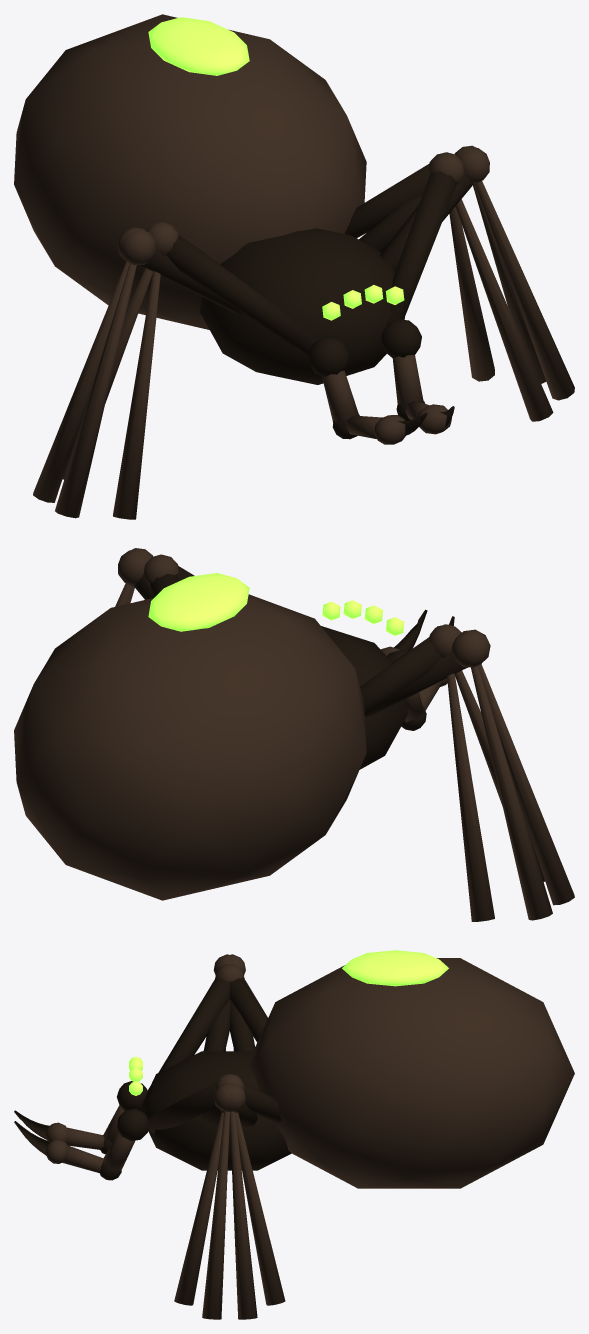
Rendered from elven-spider.glb.
3 renders of one model, top to bottom at view 1: azimuth 30°, elevation 25°; view 2: azimuth 150°, elevation 25°; view 3: azimuth 270°, elevation 25°, orthographic. The views are drawn at different scales.
Parts seen in each view (by area): view 1: Body Mesh, LegB 0 Mesh, LegB 4 Down Mesh, LegA 6 Down Mesh, LegB 7 Down Mesh, LegA 5 Down Mesh, LegA 2 Down Mesh, LegA 1 Mesh, LegA 1 Down Mesh, ArmR Mesh, ArmL Mesh, LegB 7 Mesh (+9 smaller); view 2: Body Mesh, LegA 2 Down Mesh, LegB 0 Down Mesh, LegB 4 Down Mesh, LegA 6 Mesh, LegA 6 Down Mesh, LegB 4 Mesh, LegA 2 Knee Mesh, LegB 3 Knee Mesh, ArmR Elbow Mesh, LegA 6 Knee Mesh, LegB 7 Knee Mesh (+2 smaller); view 3: Body Mesh, LegA 5 Down Mesh, LegB 3 Down Mesh, LegA 1 Down Mesh, LegB 7 Down Mesh, LegB 0 Mesh, ArmL Elbow Mesh, LegA 1 Mesh, ArmL Mesh, ArmR Elbow Mesh, LegA 6 Mesh, LegB 7 Mesh (+3 smaller).
Part boxes in pixels (x1,y1,x2,y2): Body Mesh: (14, 14, 404, 384); LegB 0 Mesh: (166, 235, 320, 356); LegB 4 Down Mesh: (55, 263, 136, 518); LegA 6 Down Mesh: (113, 271, 160, 519); LegB 7 Down Mesh: (455, 199, 553, 421); LegA 5 Down Mesh: (475, 181, 574, 400); LegA 2 Down Mesh: (33, 262, 129, 502); LegA 1 Mesh: (386, 171, 457, 324); LegA 1 Down Mesh: (449, 206, 494, 381); ArmR Mesh: (308, 337, 359, 422); ArmL Mesh: (380, 319, 423, 404); LegB 7 Mesh: (344, 164, 430, 238); Body Mesh: (14, 573, 407, 900); LegA 2 Down Mesh: (471, 666, 552, 920); LegB 0 Down Mesh: (447, 673, 494, 921); LegB 4 Down Mesh: (478, 664, 574, 905); LegA 6 Mesh: (360, 637, 441, 715); LegA 6 Down Mesh: (454, 670, 544, 881); LegB 4 Mesh: (365, 650, 465, 716); LegA 2 Knee Mesh: (451, 631, 486, 667); LegB 3 Knee Mesh: (118, 550, 148, 586); ArmR Elbow Mesh: (401, 616, 454, 730); LegA 6 Knee Mesh: (429, 624, 461, 657); LegB 7 Knee Mesh: (143, 555, 178, 586); Body Mesh: (129, 950, 574, 1188); LegA 5 Down Mesh: (202, 1111, 229, 1319); LegB 3 Down Mesh: (230, 1111, 257, 1319); LegA 1 Down Mesh: (235, 1112, 285, 1305); LegB 7 Down Mesh: (174, 1112, 223, 1305); LegB 0 Mesh: (147, 978, 229, 1090); ArmL Elbow Mesh: (14, 1121, 121, 1180); LegA 1 Mesh: (147, 1081, 216, 1133); ArmL Mesh: (103, 1108, 148, 1171); ArmR Elbow Mesh: (14, 1110, 111, 1154); LegA 6 Mesh: (230, 977, 267, 1042); LegB 7 Mesh: (242, 1081, 280, 1123).
Size of the model in its own units: 1.71 by 1.07 by 2.03.
